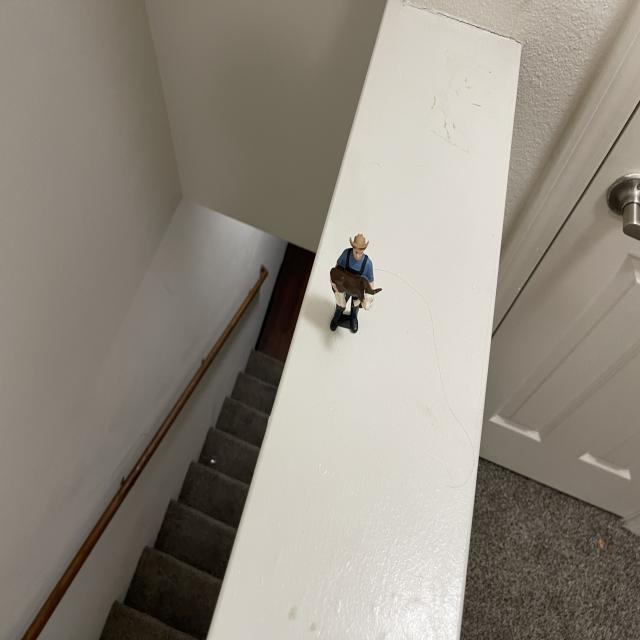cow: (322, 261, 382, 312)
person: (335, 230, 390, 285)
